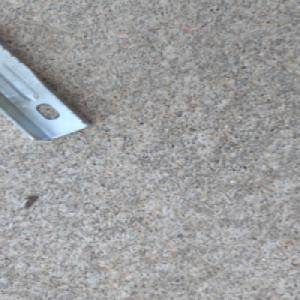ClampPart: (0, 41, 95, 142)
